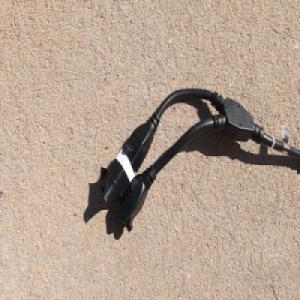Wire: (97, 84, 300, 232)
